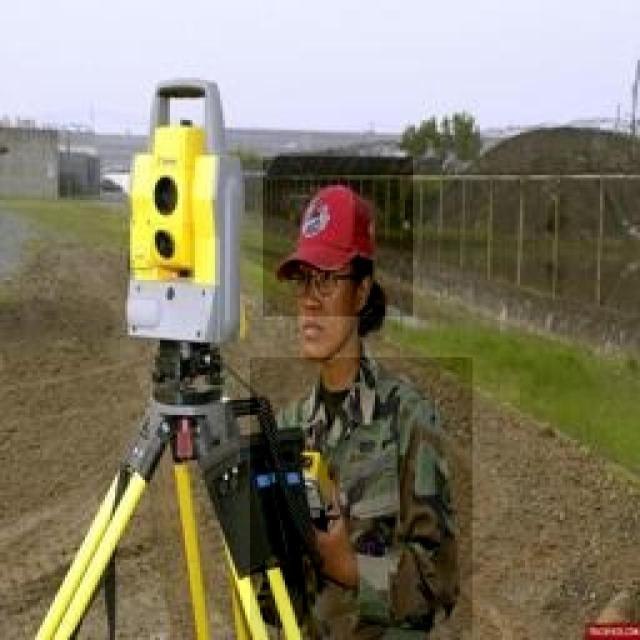Helmet: (250, 357, 472, 640), (264, 158, 414, 318)
